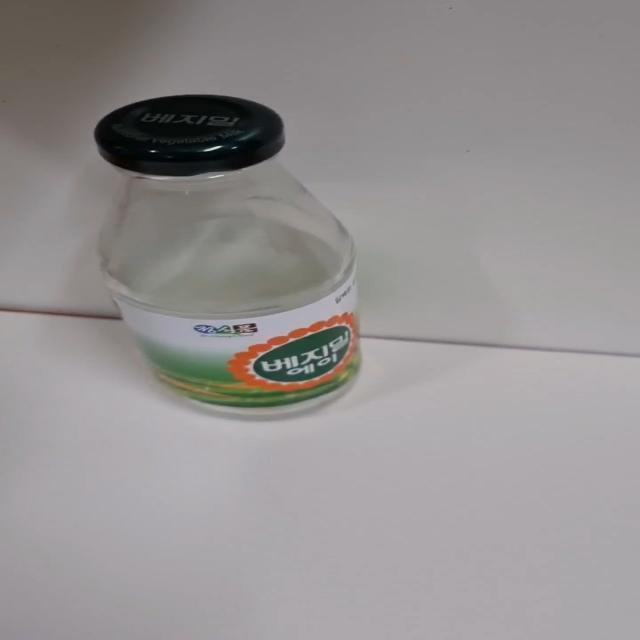Glass: (92, 94, 363, 422)
